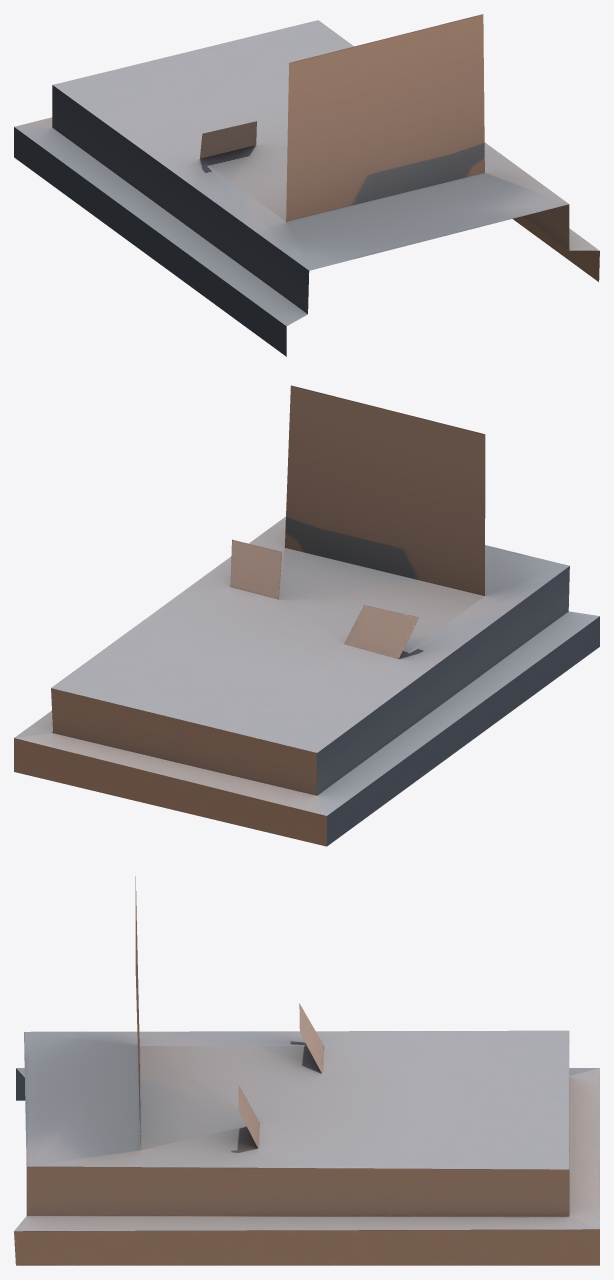
The model's file is 01lowtest.glb.
3 views of the same model, one above another, from view 1: azimuth 30°, elevation 25°; view 2: azimuth 150°, elevation 25°; view 3: azimuth 270°, elevation 25° (orthographic). The views are drawn at different scales.
Parts seen in each view (by area): view 1: Tombe1 low; view 2: Tombe1 low; view 3: Tombe1 low.
Boxes of the visible parts, left/top/right/bottom form: Tombe1 low: left=14, top=14, right=599, bottom=356; Tombe1 low: left=14, top=385, right=599, bottom=846; Tombe1 low: left=14, top=876, right=599, bottom=1265.
Size of the model in its own units: 1.41 by 1.04 by 2.14.
Materials: 1 (1 with a texture image).
